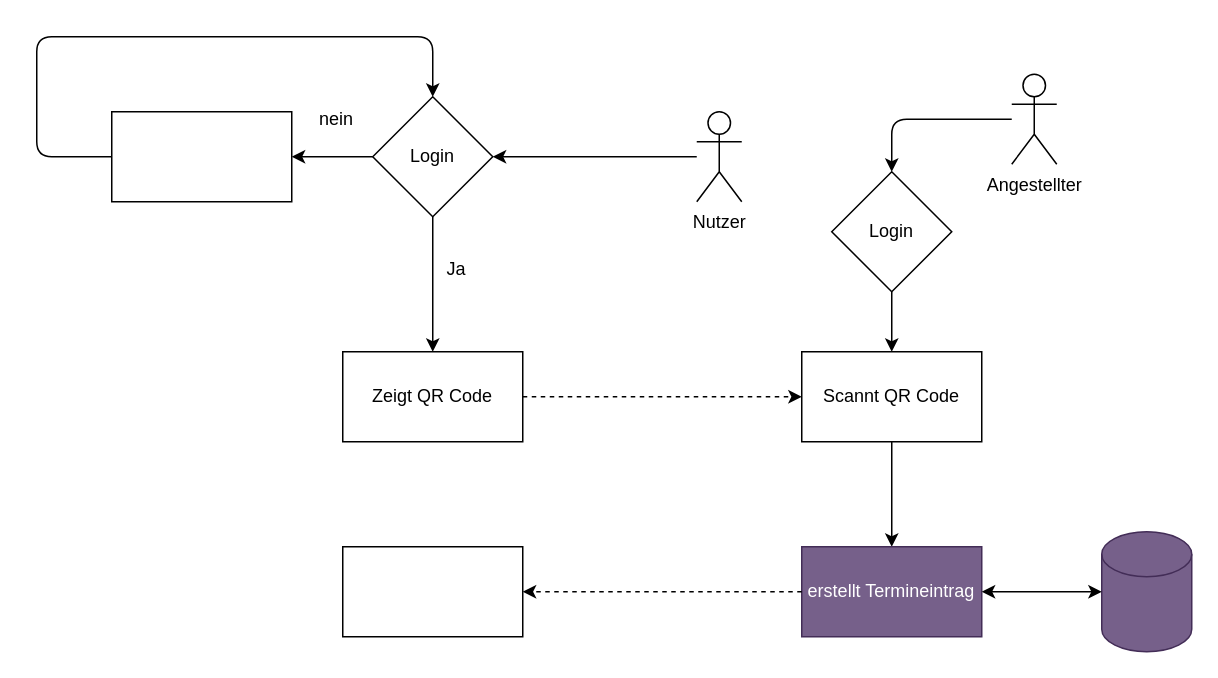
The diagram is 1218 pixels wide and 678 high, and some of its shapes have lost their labels. The shapes that lost their labels are listed below. From the top down, each one's box as (x1, y1, x2, y2) in pixels, then its label:
(110, 110, 292, 202): Registrieren
(341, 545, 523, 637): Updatet Anzeige
(1100, 530, 1192, 652): DB
